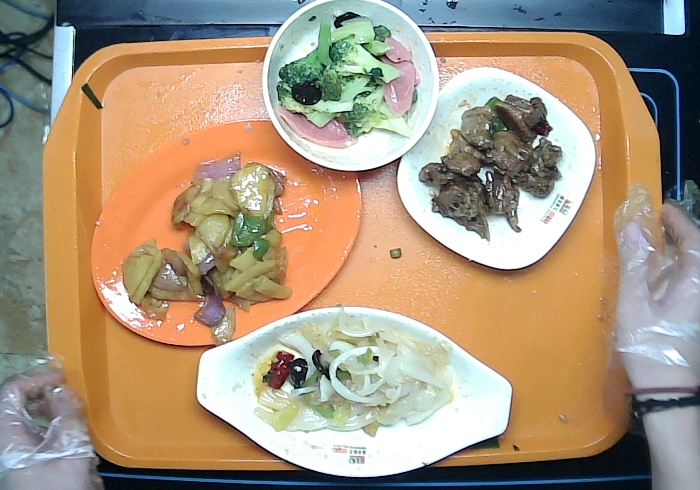NLDX-Bai_Se_Xiao_Fang_Die: (397, 64, 598, 273)
NLDX-Fan_Wan: (260, 1, 442, 175)
NLDX-Ju_Se_Pan: (87, 117, 365, 350)
NLDX-Yu_Pan: (191, 304, 516, 483)
